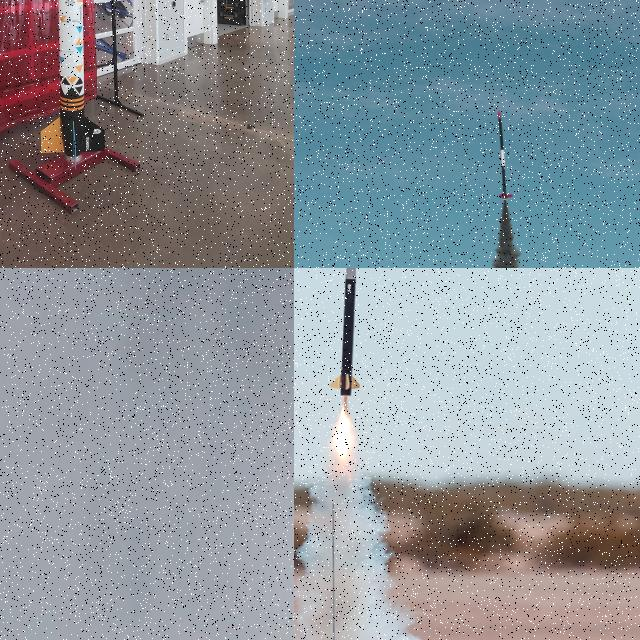Rocket: (41, 0, 105, 169), (329, 268, 362, 397), (496, 109, 514, 201)
